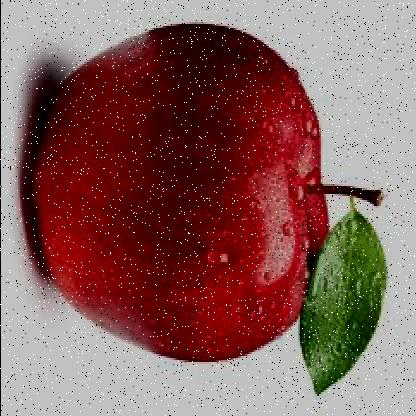apple: (36, 26, 322, 352)
